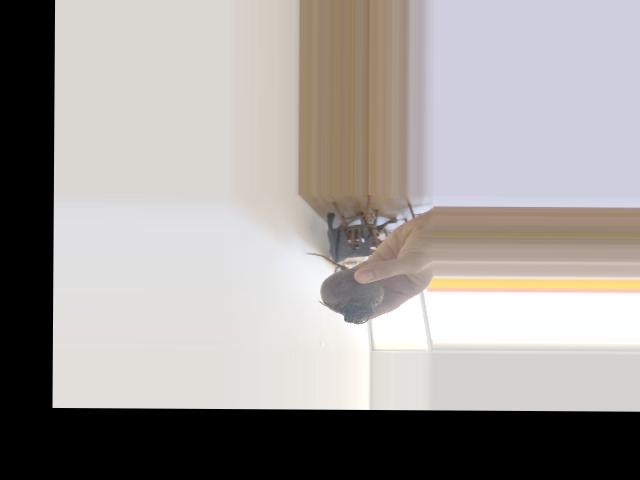beet: (303, 252, 383, 324)
